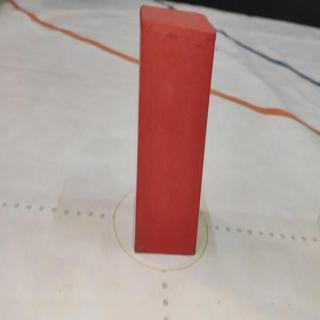redbox: (133, 5, 216, 254)
